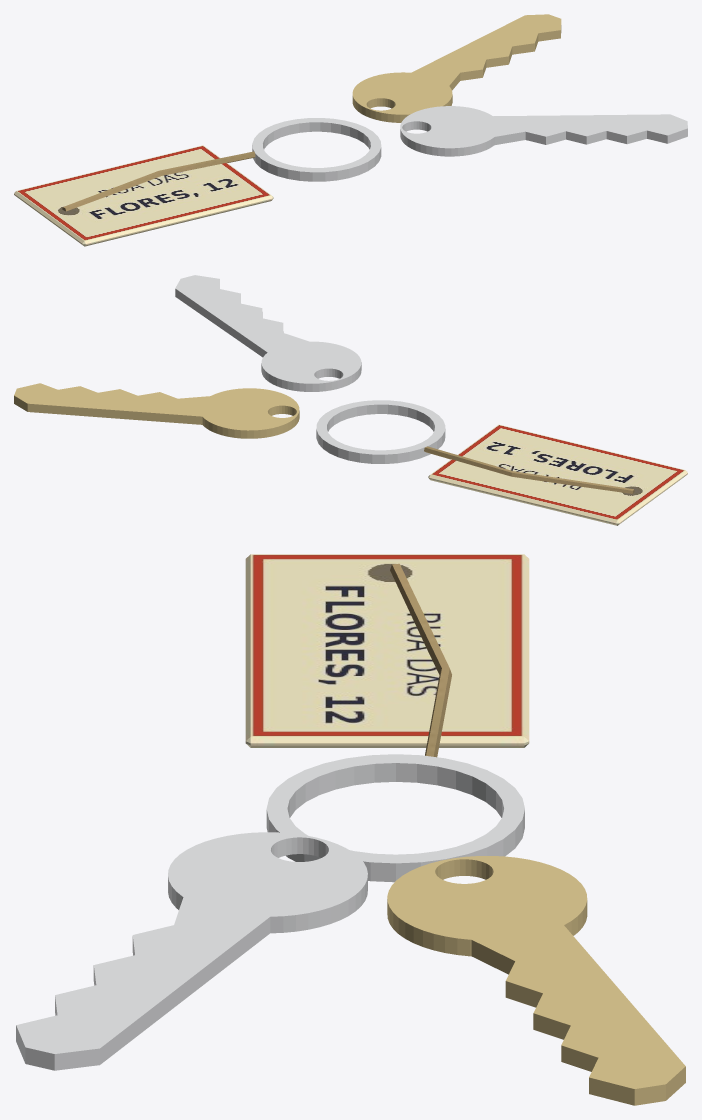
Rendered from chave_casa.glb.
3 renders of one model, top to bottom at view 1: azimuth 30°, elevation 25°; view 2: azimuth 150°, elevation 25°; view 3: azimuth 270°, elevation 25°, orthographic. The views are drawn at different scales.
Parts seen in each view (by area): view 1: chave_casa_aco_polido, chave_casa_etiqueta_chave, chave_casa_latao, chave_casa_corda; view 2: chave_casa_etiqueta_chave, chave_casa_aco_polido, chave_casa_latao, chave_casa_corda; view 3: chave_casa_etiqueta_chave, chave_casa_aco_polido, chave_casa_latao, chave_casa_corda.
Part boxes in pixels (left/top/right/bottom): chave_casa_aco_polido: left=252, top=106, right=687, bottom=181; chave_casa_etiqueta_chave: left=14, top=145, right=273, bottom=246; chave_casa_latao: left=352, top=14, right=561, bottom=122; chave_casa_corda: left=62, top=151, right=255, bottom=211; chave_casa_etiqueta_chave: left=428, top=424, right=687, bottom=525; chave_casa_aco_polido: left=175, top=275, right=445, bottom=463; chave_casa_latao: left=14, top=383, right=299, bottom=438; chave_casa_corda: left=424, top=446, right=634, bottom=493; chave_casa_etiqueta_chave: left=245, top=554, right=529, bottom=747; chave_casa_aco_polido: left=16, top=754, right=524, bottom=1070; chave_casa_latao: left=387, top=856, right=685, bottom=1105; chave_casa_corda: left=390, top=563, right=451, bottom=757.
Bounding box in the file's own units: 0.1593 × 0.0069 × 0.0803.
4 materials, 2 textured.
